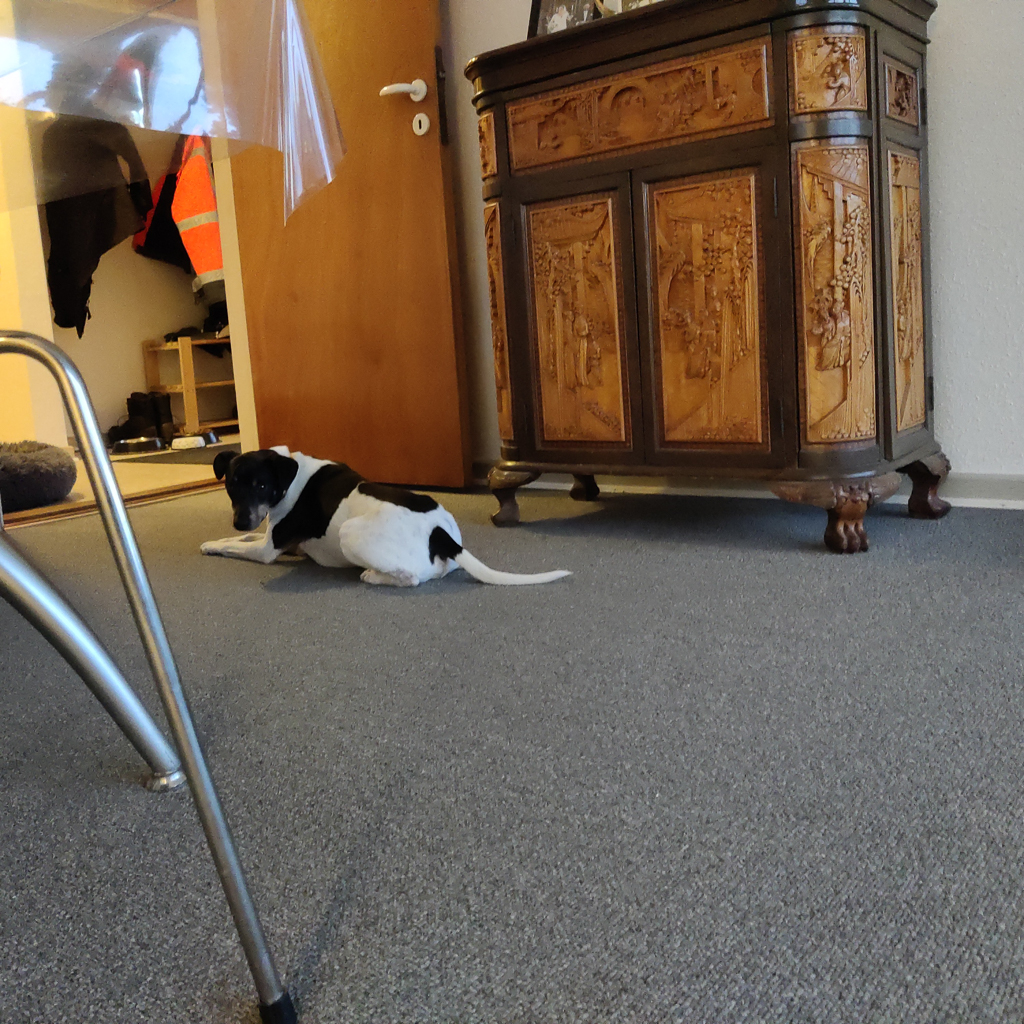Dog: (188, 424, 590, 603)
